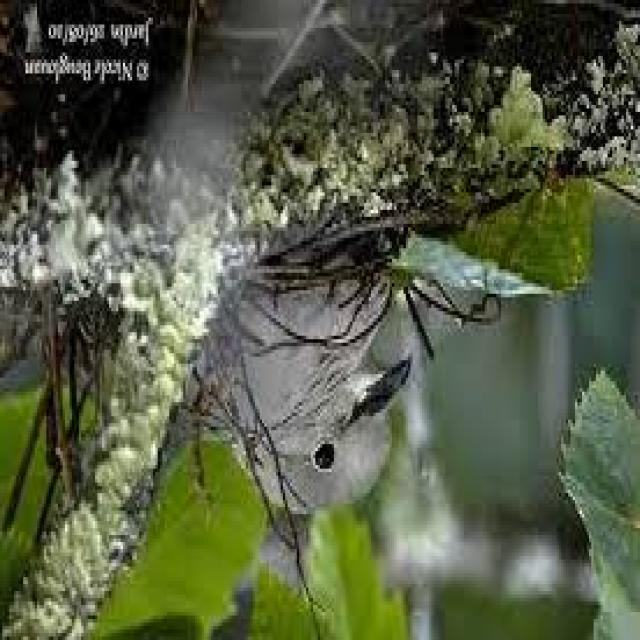pigeon: (176, 157, 424, 537)
